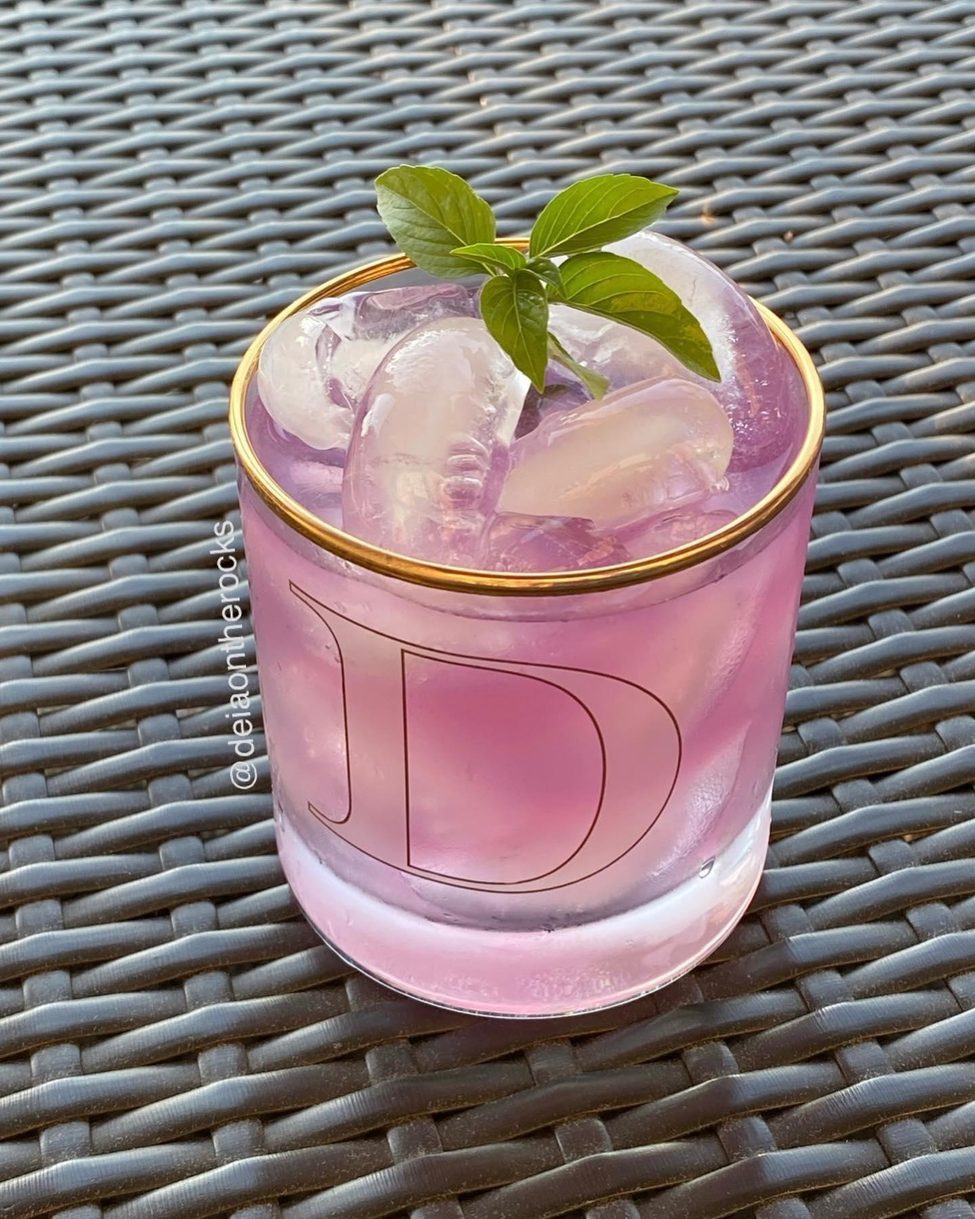glass-normal: (220, 231, 832, 1044)
